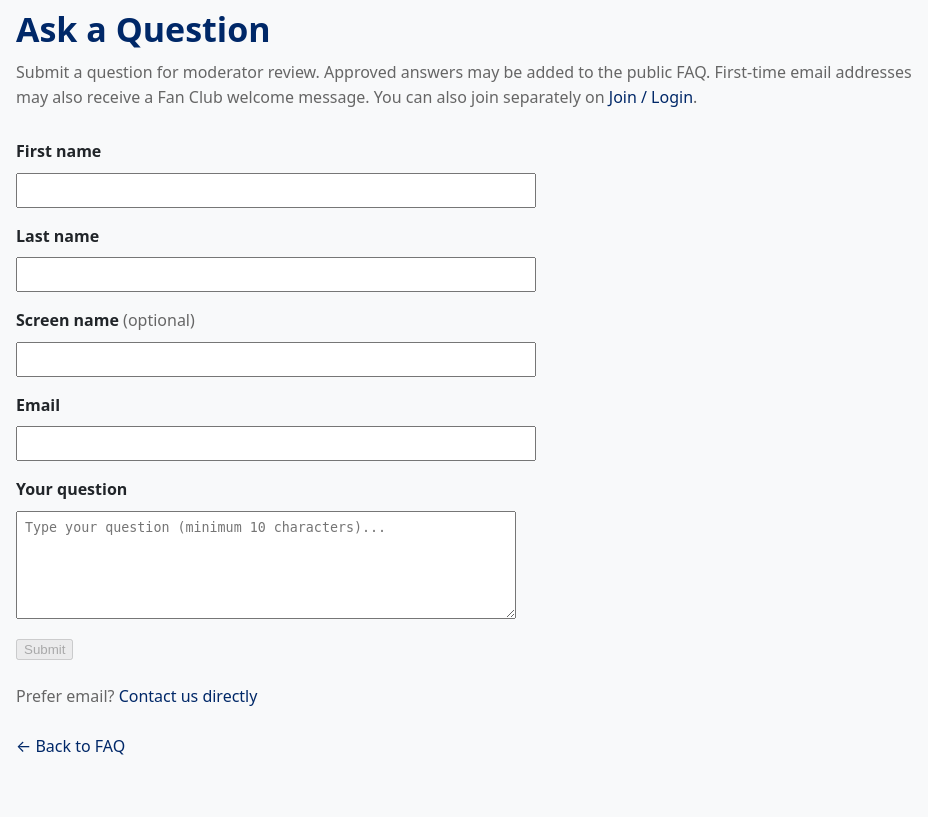
Scenario: Ask page › posts full payload to POST /api/ask on submit
Type "Lou" into the field labelled "First name" at (276, 190), box [16,173,536,208]
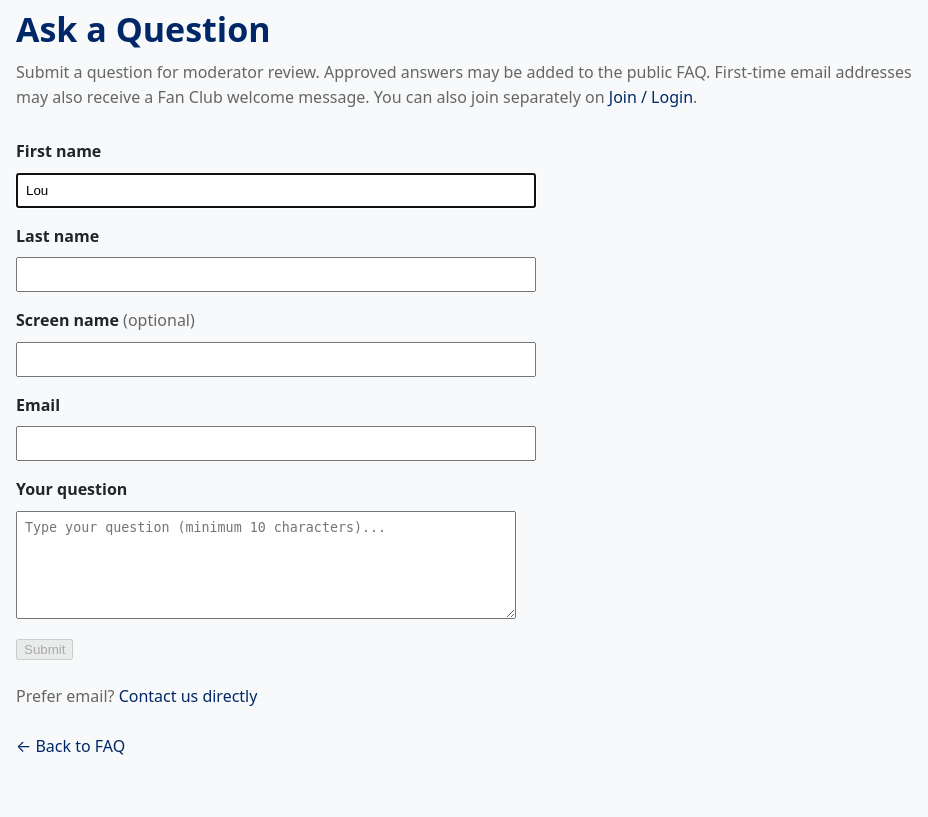
Type "Gehrig" into the field labelled "Last name" at (276, 275), box [16,257,536,292]
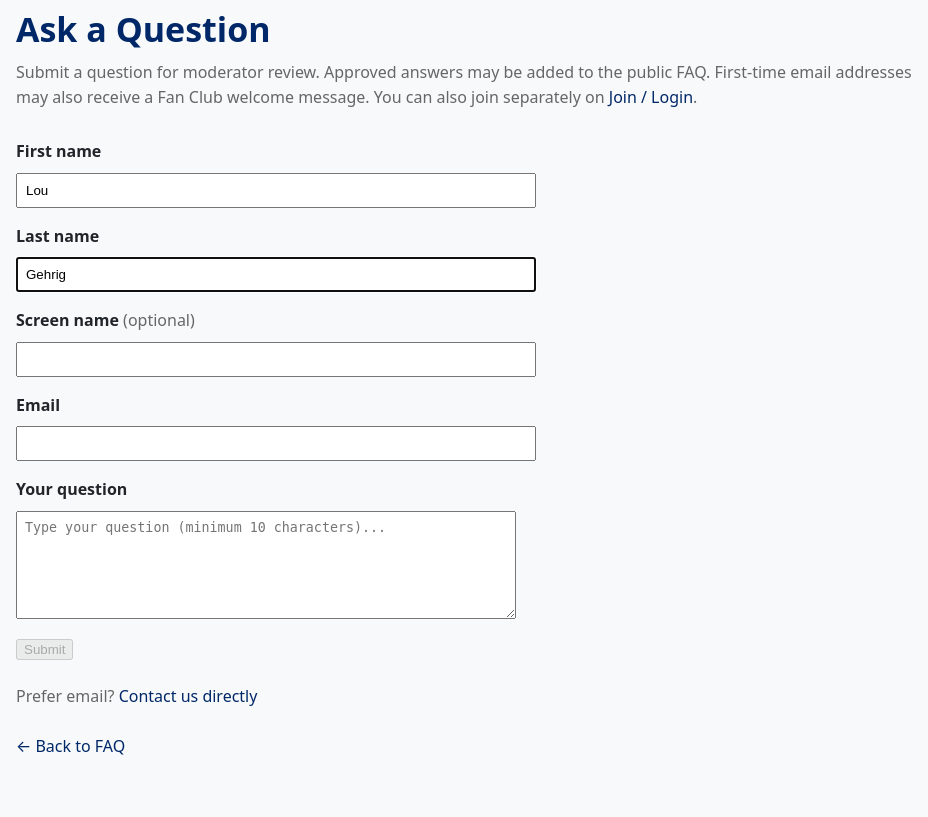
Type "fan@example.com" into the field labelled "Email" at (276, 444), box [16,426,536,461]
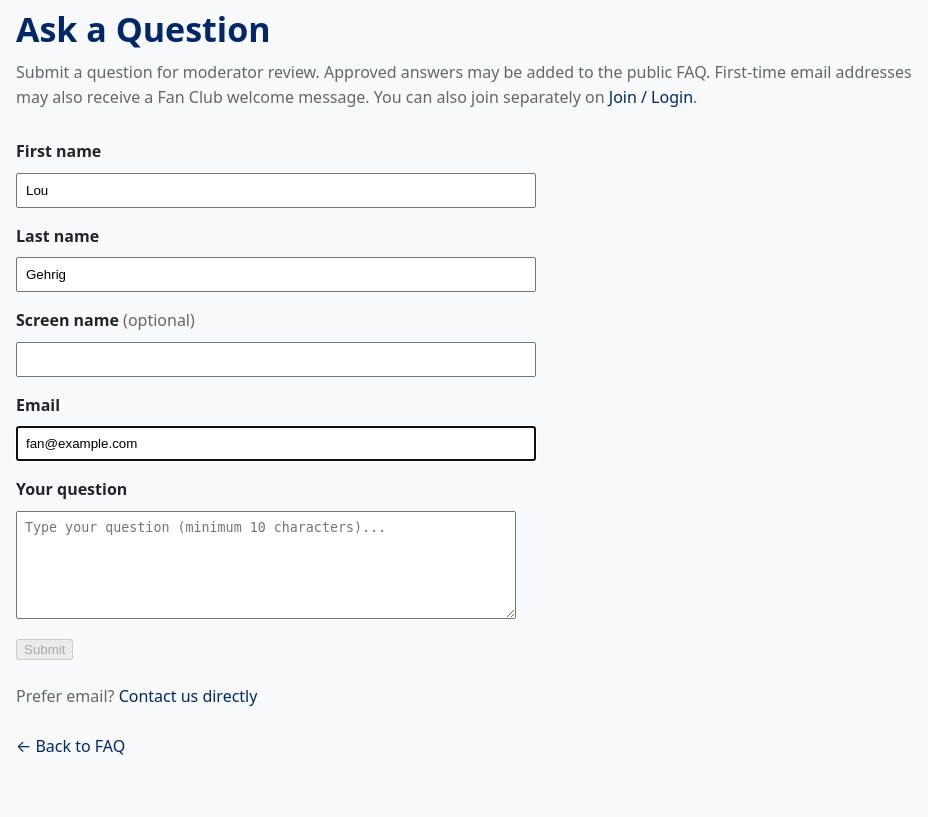
Type "How do I join the fan club online?" into the text box labelled "Your question" at (266, 565), box [16,511,516,619]
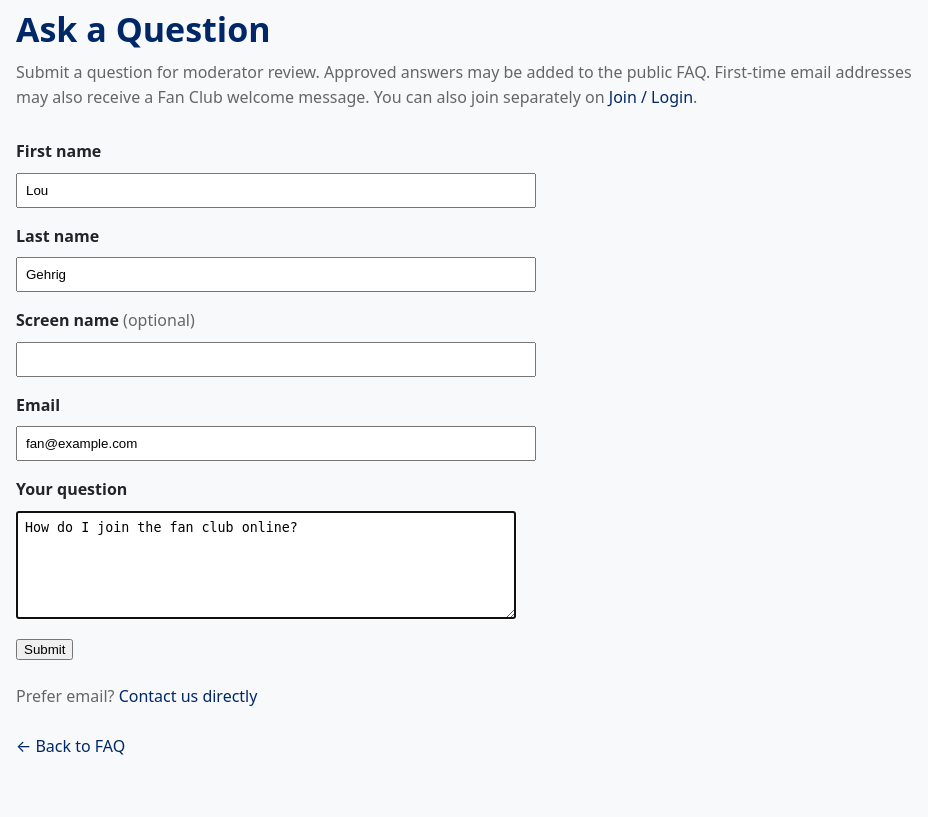
Click the button "Submit" at (45, 650), box [16,639,74,660]
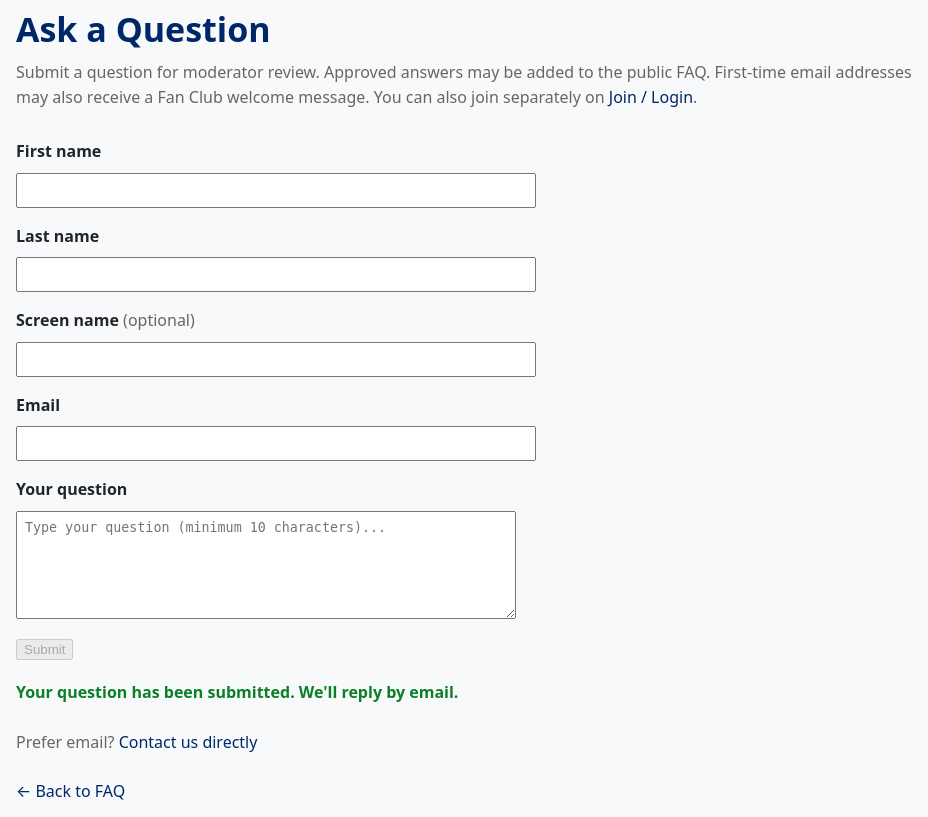
Expected: the text "Your question has been submitted. We'll reply by email." is shown, [16,681,458,703]
